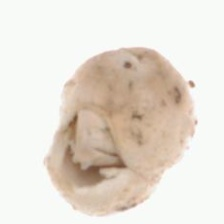L3: (64, 106, 126, 189)
L4: (45, 46, 195, 214)
